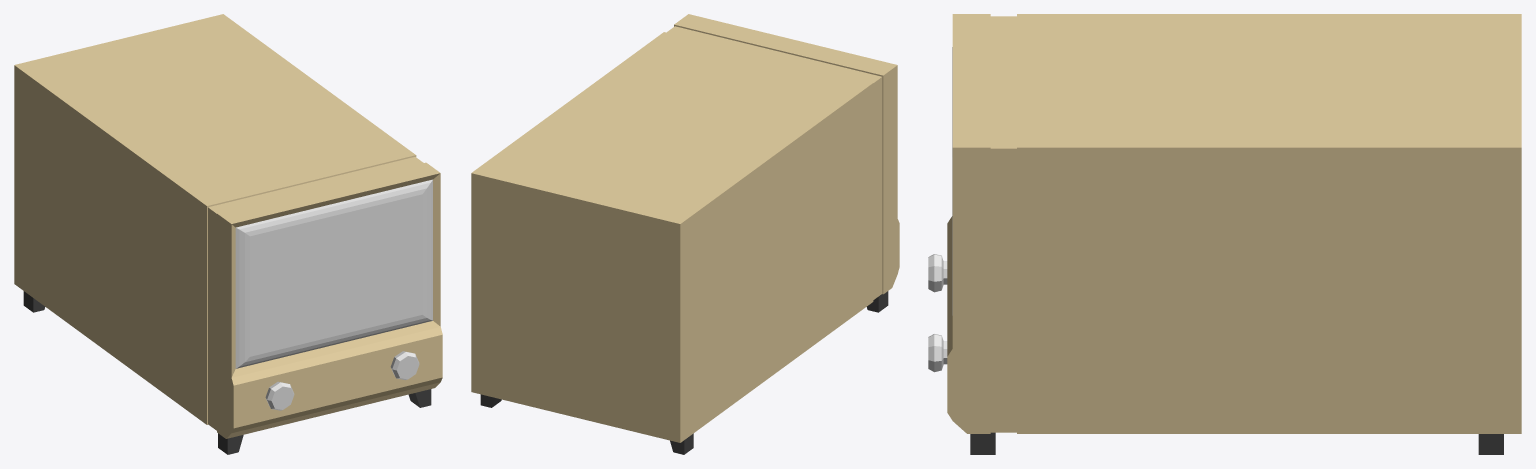
The model's file is AudioDevice.fbx.
3 renders of one model, left to right at view 1: azimuth 30°, elevation 25°; view 2: azimuth 150°, elevation 25°; view 3: azimuth 270°, elevation 25°, orthographic. The views are drawn at different scales.
Parts seen in each view (by area): view 1: audiodeviceChassis, audiodeviceLegs, audioDeviceKnob.001, audioDeviceKnob.002; view 2: audiodeviceChassis, audiodeviceLegs; view 3: audiodeviceChassis, audiodeviceLegs, audioDeviceKnob.001, audioDeviceKnob.002.
Boxes of the visible parts, bbox=[...] form: audiodeviceChassis: bbox=[14, 14, 442, 438]; audiodeviceLegs: bbox=[23, 291, 431, 454]; audioDeviceKnob.001: bbox=[390, 351, 419, 380]; audioDeviceKnob.002: bbox=[265, 381, 294, 410]; audiodeviceChassis: bbox=[471, 14, 899, 442]; audiodeviceLegs: bbox=[480, 291, 888, 454]; audiodeviceChassis: bbox=[947, 14, 1521, 433]; audiodeviceLegs: bbox=[970, 432, 1503, 454]; audioDeviceKnob.001: bbox=[928, 334, 947, 372]; audioDeviceKnob.002: bbox=[928, 254, 947, 292].
Size of the model in its own units: 0.25 by 0.27 by 0.4692.
